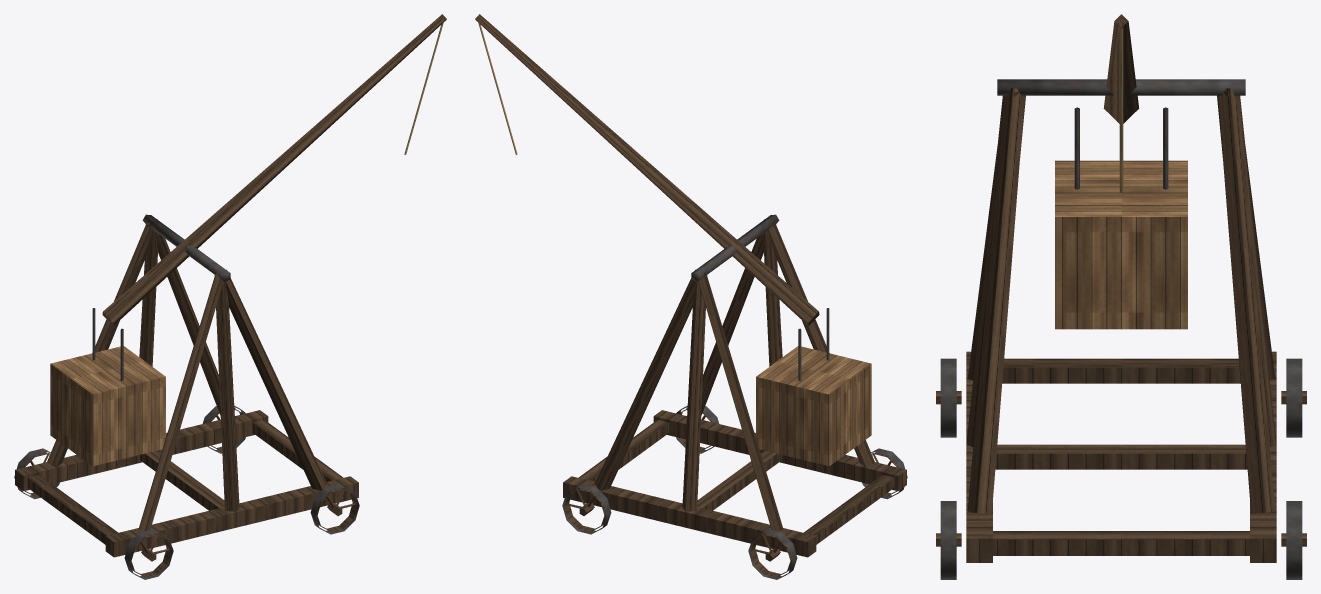
Rendered from Trebuchet_1_LOD1.gltf.
3 views of the same model, side by side, from view 1: azimuth 30°, elevation 25°; view 2: azimuth 150°, elevation 25°; view 3: azimuth 270°, elevation 25° (orthographic). The views are drawn at different scales.
Visible parts, largest first — view 1: Trebuchet_1_LOD1; view 2: Trebuchet_1_LOD1; view 3: Trebuchet_1_LOD1.
Boxes of the visible parts, box(x1,y1,x2,y2) form: Trebuchet_1_LOD1: box(14, 14, 446, 579); Trebuchet_1_LOD1: box(475, 14, 907, 579); Trebuchet_1_LOD1: box(936, 14, 1306, 579).
Size of the model in its own units: 7.8 by 8.53 by 4.19.
4 materials, 4 textured.
